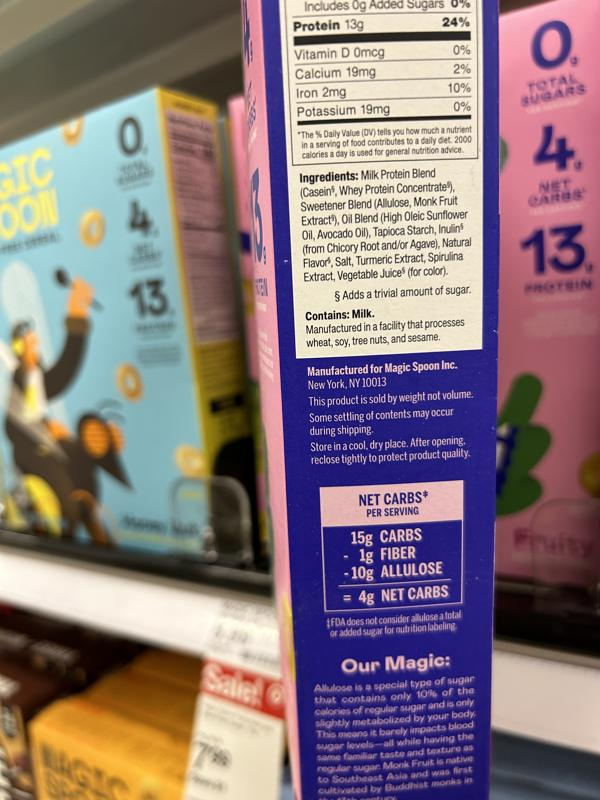ingredients: (297, 165, 474, 282)
